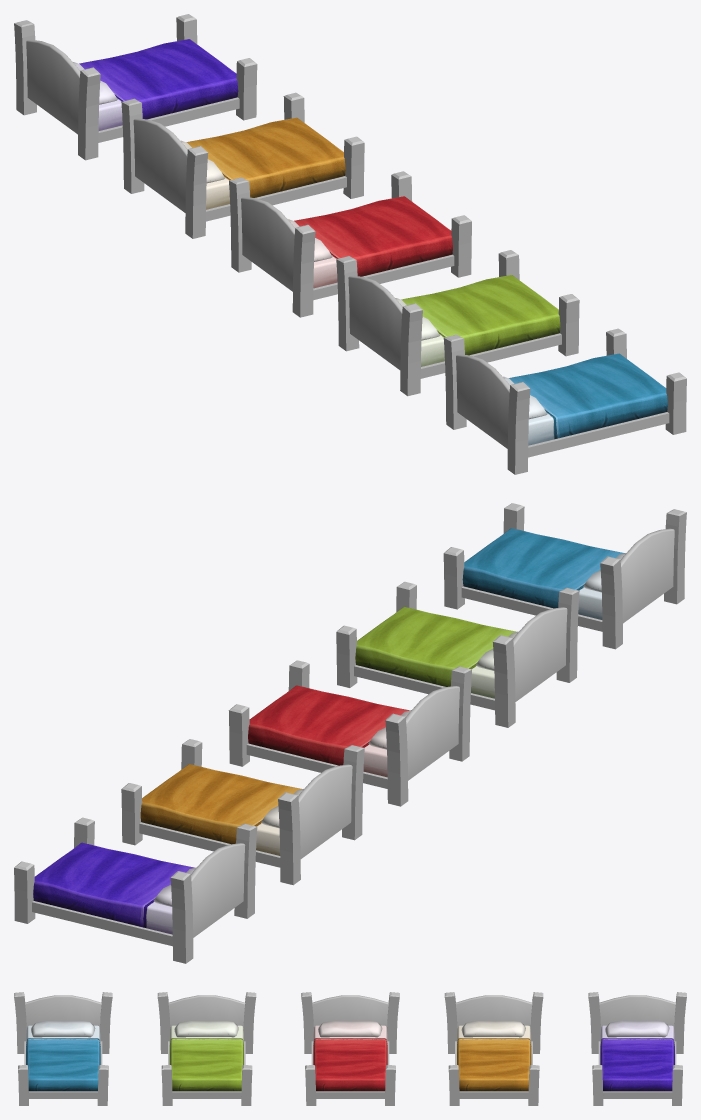
The model's file is Bed.fbx.
3 renders of one model, top to bottom at view 1: azimuth 30°, elevation 25°; view 2: azimuth 150°, elevation 25°; view 3: azimuth 270°, elevation 25°, orthographic. The views are drawn at different scales.
Visible parts, largest first — view 1: Bedwood.004, Bedwood.001, Bedwood, Bedwood.003, Bedwood.002, Bed.004, Bed, Bed.002, Bed.001, Bed.003; view 2: Bedwood.002, Bedwood, Bedwood.003, Bedwood.001, Bedwood.004, Bed.002, Bed, Bed.004, Bed.003, Bed.001; view 3: Bed, Bed.004, Bed.002, Bed.001, Bed.003, Bedwood, Bedwood.001, Bedwood.003, Bedwood.002, Bedwood.004.
Part boxes in pixels (x1,y1,x2,y2): Bedwood.004: [443, 328, 686, 474]; Bedwood.001: [121, 92, 364, 238]; Bedwood: [229, 171, 471, 317]; Bedwood.003: [336, 250, 579, 396]; Bedwood.002: [14, 14, 257, 160]; Bed.004: [503, 353, 667, 445]; Bed: [288, 196, 452, 288]; Bed.002: [73, 39, 238, 130]; Bed.001: [180, 117, 345, 209]; Bed.003: [395, 275, 560, 366]; Bedwood.002: [14, 817, 257, 963]; Bedwood: [228, 660, 471, 806]; Bedwood.003: [336, 581, 579, 727]; Bedwood.001: [121, 739, 364, 885]; Bedwood.004: [443, 503, 686, 649]; Bed.002: [33, 842, 196, 934]; Bed: [248, 685, 411, 777]; Bed.004: [462, 528, 625, 619]; Bed.003: [355, 607, 518, 698]; Bed.001: [140, 764, 303, 855]; Bed: [313, 1020, 387, 1091]; Bed.004: [26, 1020, 100, 1091]; Bed.002: [600, 1020, 674, 1091]; Bed.001: [457, 1020, 531, 1091]; Bed.003: [169, 1020, 243, 1091]; Bedwood: [301, 992, 399, 1105]; Bedwood.001: [444, 992, 543, 1105]; Bedwood.003: [157, 992, 256, 1105]; Bedwood.002: [588, 992, 686, 1105]; Bedwood.004: [14, 992, 112, 1105].
Bounding box in the file's own units: 649 × 312 × 3281.
